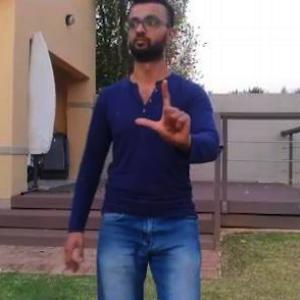land_hand: (133, 75, 195, 154)
